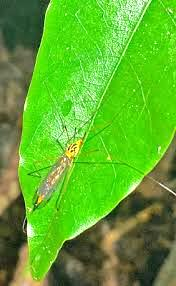Helopeltis-insect: (22, 133, 91, 211)
